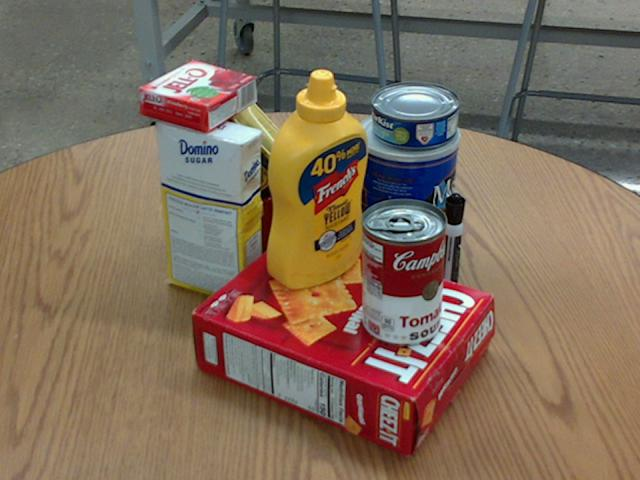cracker_box: (194, 229, 494, 456)
gelatin_box: (139, 60, 257, 131)
large_marker: (437, 193, 464, 307)
master_chef_can: (354, 109, 462, 275)
mug: (195, 158, 286, 264)
mustard_bottle: (266, 68, 366, 288)
potted_meat_can: (174, 94, 302, 221)
sugar_box: (156, 109, 263, 306)
tomato_soup_can: (361, 197, 448, 345)
tuna_fish_can: (372, 81, 460, 148)
